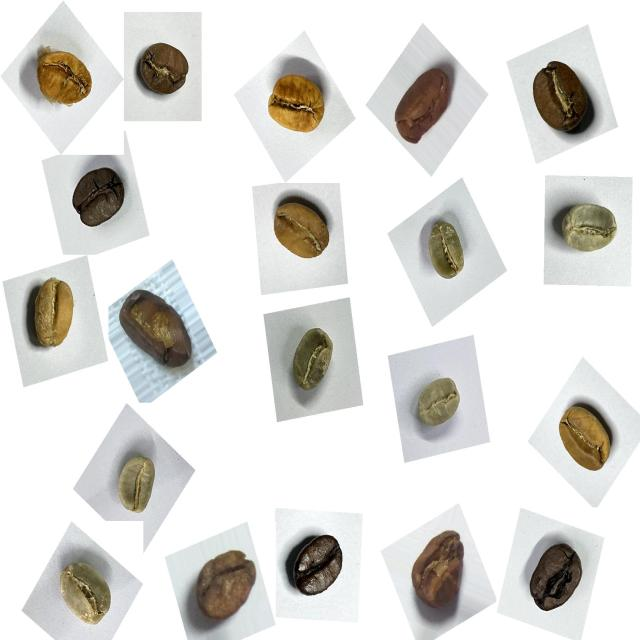bad: (112, 279, 199, 385), (384, 51, 463, 156), (400, 516, 476, 624)
dark: (518, 532, 596, 626), (282, 519, 356, 612), (60, 158, 132, 243)
green: (47, 548, 122, 636), (548, 187, 626, 271), (275, 317, 343, 407), (412, 212, 481, 293), (102, 443, 166, 526), (404, 363, 471, 442)
light: (545, 389, 621, 484), (255, 57, 335, 146), (258, 186, 338, 274), (26, 36, 106, 121), (20, 268, 90, 358)
medium: (518, 52, 604, 149), (184, 535, 267, 632), (130, 30, 198, 109)
